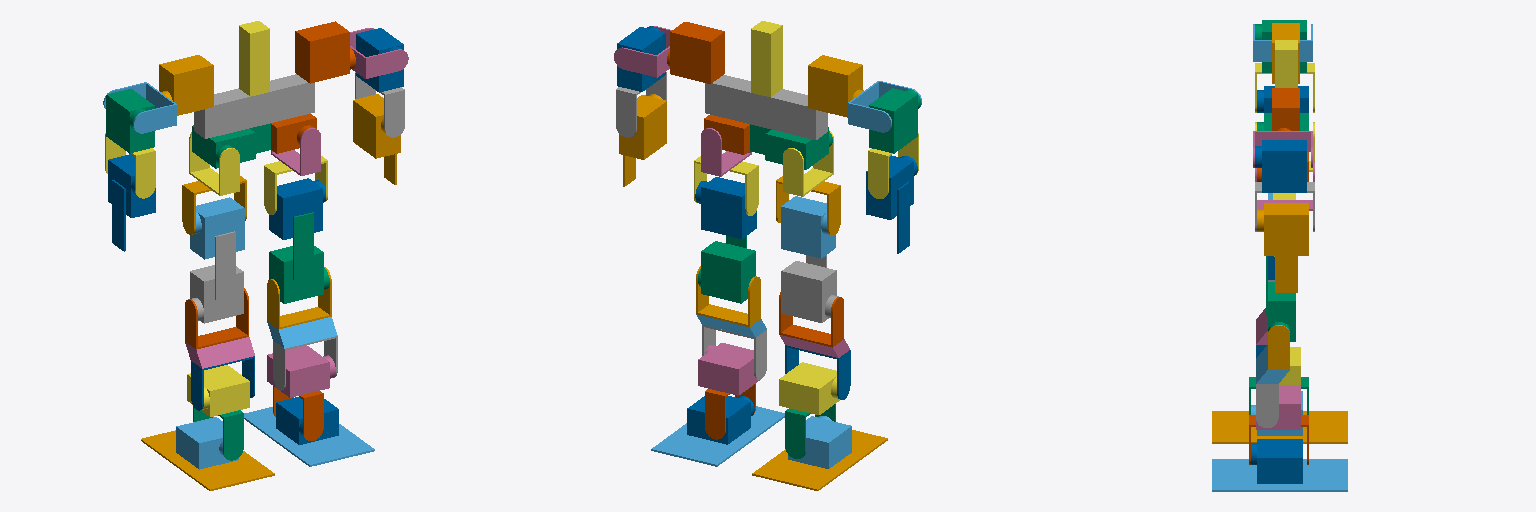
--- Facts derived from the render (not from the file) ---
The picture shows the robot from 3 angles, left to right: view 1: azimuth 30°, elevation 25°; view 2: azimuth 150°, elevation 25°; view 3: azimuth 270°, elevation 25°; orthographic projection.
Robot: humanoidV3 — 38 links, 37 joints (17 revolute, 20 fixed); root link base_link; default pose: all joints at 0.
Visible links, largest first — view 1: Comp3, servo5, servo6, servo15, servo16, ankel1, ankel2, servo12, servo11, servo8, servo7, servo3 (+24 smaller); view 2: Comp3, servo6, servo5, servo15, servo7, servo16, ankel1, servo8, ankel2, servo12, servo4, servo3 (+24 smaller); view 3: servo11, ankel2, ankel1, servo13, servo1, servo5, servo15, Comp4, servo3, csmall7, csmall8, csmall11 (+5 smaller).
Link boxes in pixels (x1,y1,x2,y2): Comp3: (194, 74, 314, 138); servo5: (269, 212, 329, 303); servo6: (190, 231, 243, 323); servo15: (295, 21, 355, 83); servo16: (159, 55, 213, 115); ankel1: (141, 430, 274, 490); ankel2: (244, 407, 374, 466); servo12: (108, 154, 155, 251); servo11: (353, 94, 400, 184); servo8: (190, 197, 244, 259); servo7: (269, 178, 325, 239); servo3: (267, 345, 335, 397); Comp3: (705, 75, 827, 139); servo6: (781, 255, 838, 322); servo5: (698, 236, 755, 303); servo15: (667, 22, 724, 83); servo7: (695, 177, 756, 238); servo16: (808, 55, 863, 117); ankel1: (752, 430, 887, 490); servo8: (781, 196, 835, 258); ankel2: (651, 406, 784, 466); servo12: (866, 155, 917, 253); servo4: (779, 362, 839, 414); servo3: (698, 343, 759, 395); servo11: (1257, 203, 1308, 292); ankel2: (1212, 459, 1347, 491); ankel1: (1212, 411, 1347, 443); servo13: (1255, 140, 1306, 192); servo1: (1251, 439, 1302, 483); servo5: (1266, 256, 1295, 341); servo15: (1272, 88, 1299, 130); Comp4: (1275, 40, 1297, 87); servo3: (1256, 385, 1300, 429); csmall7: (1256, 384, 1278, 427); csmall8: (1268, 325, 1289, 369); csmall11: (1253, 24, 1312, 61).
Size in the robot's own frame: 0.274 by 0.12 by 0.3971 metres.
37 mesh visuals loaded from 38 distinct referenced files (37 binary STL); not drawn: 1 (reference not matched to a file when rendering).

The robot description file, URDF, robot "humanoidV3":
<?xml version='1.0' encoding='utf-8'?>
<robot name="humanoidV3">
    <link name="ankel1">
        <inertial>
            <origin xyz="-9.461717720427032e-10 4.96136727701213e-09 0.0008749975469610094" rpy="0.0 -0.0 0.0" />
            <mass value="0.022345050000000005" />
            <inertia ixx="2.6819762642970645e-05" iyy="7.873022330469055e-06" izz="3.468137968750205e-05" ixy="-4.531626267810507e-20" iyz="3.4304834363799164e-20" ixz="2.439454888092385e-19" />
        </inertial>
        <visual name="ankel1_visual">
            <origin xyz="-0.032500000946172905 -0.009999995038632992 0.001749997546961022" rpy="-3.14159265358979 5.377642775528136e-16 -1.249000902703285e-15" />
            <geometry>
                <mesh filename="meshes/ankel1.stl" scale="0.001 0.001 0.001" />
            </geometry>
        </visual>
        <collision name="ankel1_collision">
            <origin xyz="-0.032500000946172905 -0.009999995038632992 0.001749997546961022" rpy="-3.14159265358979 5.377642775528136e-16 -1.249000902703285e-15" />
            <geometry>
                <mesh filename="meshes/ankel1.stl" scale="0.001 0.001 0.001" />
            </geometry>
        </collision>
    </link>
    <link name="servo2">
        <inertial>
            <origin xyz="-0.009549969290340386 0.0023874896329909136 0.024964922230111902" rpy="0.0 -0.0 0.0" />
            <mass value="0.05780123871717229" />
            <inertia ixx="1.1637489216004143e-05" iyy="1.6355380589483745e-05" izz="1.062900549778705e-05" ixy="6.210436850530722e-08" iyz="-1.4284004757615333e-07" ixz="5.713601902397196e-07" />
        </inertial>
        <visual name="servo2_visual">
            <origin xyz="-0.05000000094617322 0.016749997546961028 0.03599999503863297" rpy="1.570796326794898 -1.2490009027032847e-15 -7.597004622606031e-16" />
            <geometry>
                <mesh filename="meshes/servo2.stl" scale="0.001 0.001 0.001" />
            </geometry>
        </visual>
        <collision name="servo2_collision">
            <origin xyz="-0.05000000094617322 0.016749997546961028 0.03599999503863297" rpy="1.570796326794898 -1.2490009027032847e-15 -7.597004622606031e-16" />
            <geometry>
                <mesh filename="meshes/servo2.stl" scale="0.001 0.001 0.001" />
            </geometry>
        </collision>
    </link>
    <link name="csmall1">
        <inertial>
            <origin xyz="-1.5367193295645622e-09 4.961356394606042e-09 0.01308869971781287" rpy="0.0 -0.0 0.0" />
            <mass value="0.007517560189288541" />
            <inertia ixx="4.996715608195708e-06" iyy="1.5854743173651417e-06" izz="3.897412167647621e-06" ixy="9.740878893424454e-21" iyz="1.718312212623755e-18" ixz="-2.3150765701175635e-14" />
        </inertial>
        <visual name="csmall1_visual">
            <origin xyz="-0.05000000169123135 -0.011249995575074842 0.04999999780028083" rpy="-3.14159265358979 7.597004622605937e-16 8.544811812600063e-16" />
            <geometry>
                <mesh filename="meshes/csmall1.stl" scale="0.001 0.001 0.001" />
            </geometry>
        </visual>
        <collision name="csmall1_collision">
            <origin xyz="-0.05000000169123135 -0.011249995575074842 0.04999999780028083" rpy="-3.14159265358979 7.597004622605937e-16 8.544811812600063e-16" />
            <geometry>
                <mesh filename="meshes/csmall1.stl" scale="0.001 0.001 0.001" />
            </geometry>
        </collision>
    </link>
    <link name="servo4">
        <inertial>
            <origin xyz="-0.0023874897820010156 -0.009549963382801056 0.024964925500249285" rpy="0.0 -0.0 0.0" />
            <mass value="0.05780123871717229" />
            <inertia ixx="1.6355380589484043e-05" iyy="1.1637489216002233e-05" izz="1.0629005497792444e-05" ixy="-6.210436850552067e-08" iyz="5.713601902393393e-07" ixz="1.4284004757442962e-07" />
        </inertial>
        <visual name="servo4_visual">
            <origin xyz="-0.06574999769597271 -0.021999995038633022 -0.020000001691231437" rpy="-3.1415926535897922 -1.5707963267948957 0" />
            <geometry>
                <mesh filename="meshes/servo4.stl" scale="0.001 0.001 0.001" />
            </geometry>
        </visual>
        <collision name="servo4_collision">
            <origin xyz="-0.06574999769597271 -0.021999995038633022 -0.020000001691231437" rpy="-3.1415926535897922 -1.5707963267948957 0" />
            <geometry>
                <mesh filename="meshes/servo4.stl" scale="0.001 0.001 0.001" />
            </geometry>
        </collision>
    </link>
    <link name="csmall2">
        <inertial>
            <origin xyz="-1.69123028470608e-09 4.370820039234502e-09 0.013088699866797686" rpy="0.0 -0.0 0.0" />
            <mass value="0.0075175601892790555" />
            <inertia ixx="1.585474317362072e-06" iyy="4.99671560818556e-06" izz="3.8974121676413834e-06" ixy="-6.098637220230962e-20" iyz="-2.3150744525351954e-14" ixz="3.3203691532368573e-19" />
        </inertial>
        <visual name="csmall2_visual">
            <origin xyz="-0.044500001691231326 -0.021749996320132883 0.09899999794929225" rpy="-3.14159265358979 5.381282163586294e-16 6.743723879120538e-16" />
            <geometry>
                <mesh filename="meshes/csmall2.stl" scale="0.001 0.001 0.001" />
            </geometry>
        </visual>
        <collision name="csmall2_collision">
            <origin xyz="-0.044500001691231326 -0.021749996320132883 0.09899999794929225" rpy="-3.14159265358979 5.381282163586294e-16 6.743723879120538e-16" />
            <geometry>
                <mesh filename="meshes/csmall2.stl" scale="0.001 0.001 0.001" />
            </geometry>
        </collision>
    </link>
    <link name="csmall3">
        <inertial>
            <origin xyz="-0.019911296948796123 -1.6029945593132311e-09 -0.024749998308769713" rpy="0.0 -0.0 0.0" />
            <mass value="0.007517560189279032" />
            <inertia ixx="3.897412167641505e-06" iyy="4.996715608185831e-06" izz="1.5854743173623431e-06" ixy="2.3151212087538838e-14" iyz="-1.1286714022163552e-19" ixz="5.827586677109586e-19" />
        </inertial>
        <visual name="csmall3_visual">
            <origin xyz="-0.14699999937294758 0.021749999087958348 0.01975000169123126" rpy="3.843315077959761e-16 1.570796326794896 0" />
            <geometry>
                <mesh filename="meshes/csmall3.stl" scale="0.001 0.001 0.001" />
            </geometry>
        </visual>
        <collision name="csmall3_collision">
            <origin xyz="-0.14699999937294758 0.021749999087958348 0.01975000169123126" rpy="3.843315077959761e-16 1.570796326794896 0" />
            <geometry>
                <mesh filename="meshes/csmall3.stl" scale="0.001 0.001 0.001" />
            </geometry>
        </collision>
    </link>
    <link name="Comp1">
        <inertial>
            <origin xyz="-1.6912302314153748e-09 0.005234147832396925 0.007101233407796812" rpy="0.0 -0.0 0.0" />
            <mass value="0.024635392744770463" />
            <inertia ixx="1.4596525160551189e-06" iyy="6.18083552493949e-06" izz="6.812286694457469e-06" ixy="-2.591920818598159e-19" iyz="-3.0522348765194117e-07" ixz="1.3552527156068805e-18" />
        </inertial>
        <visual name="Comp1_visual">
            <origin xyz="-0.04450000169123129 -0.011309445863593271 0.11331588646907101" rpy="-3.14159265358979 5.380875589313602e-16 6.743723879120537e-16" />
            <geometry>
                <mesh filename="meshes/Comp1.stl" scale="0.001 0.001 0.001" />
            </geometry>
        </visual>
        <collision name="Comp1_collision">
            <origin xyz="-0.04450000169123129 -0.011309445863593271 0.11331588646907101" rpy="-3.14159265358979 5.380875589313602e-16 6.743723879120537e-16" />
            <geometry>
                <mesh filename="meshes/Comp1.stl" scale="0.001 0.001 0.001" />
            </geometry>
        </collision>
    </link>
    <link name="servo6">
        <inertial>
            <origin xyz="-0.0015104733836477013 -0.05983643169479816 -0.011754290813264033" rpy="0.0 -0.0 0.0" />
            <mass value="0.060699238717172255" />
            <inertia ixx="1.4693730397509703e-05" iyy="1.2227175300403008e-05" izz="2.003750615806434e-05" ixy="-7.085129238241627e-07" iyz="-1.0846499523523942e-06" ixz="8.478544706999188e-08" />
        </inertial>
        <visual name="servo6_visual">
            <origin xyz="-0.04655113169123128 -0.21663231911962777 -0.0319999978064584" rpy="-1.5707963267948963 -4.526234928508708e-16 7.603220966537246e-16" />
            <geometry>
                <mesh filename="meshes/servo6.stl" scale="0.001 0.001 0.001" />
            </geometry>
        </visual>
        <collision name="servo6_collision">
            <origin xyz="-0.04655113169123128 -0.21663231911962777 -0.0319999978064584" rpy="-1.5707963267948963 -4.526234928508708e-16 7.603220966537246e-16" />
            <geometry>
                <mesh filename="meshes/servo6.stl" scale="0.001 0.001 0.001" />
            </geometry>
        </collision>
    </link>
    <link name="csmall4">
        <inertial>
            <origin xyz="1.567883245456869e-10 2.784089829788172e-09 0.013088703264342883" rpy="0.0 -0.0 0.0" />
            <mass value="0.007517560189288577" />
            <inertia ixx="1.5854743173693633e-06" iyy="4.996715608195264e-06" izz="3.897412167648366e-06" ixy="-3.6337713437209485e-19" iyz="2.3151907501588534e-14" ixz="3.5236570605778894e-18" />
        </inertial>
        <visual name="csmall4_visual">
            <origin xyz="-0.04449999984320096 -0.01674999908795832 0.2590000016448406" rpy="-3.141592653589791 1.1047905339958533e-15 1.693231541867879e-16" />
            <geometry>
                <mesh filename="meshes/csmall4.stl" scale="0.001 0.001 0.001" />
            </geometry>
        </visual>
        <collision name="csmall4_collision">
            <origin xyz="-0.04449999984320096 -0.01674999908795832 0.2590000016448406" rpy="-3.141592653589791 1.1047905339958533e-15 1.693231541867879e-16" />
            <geometry>
                <mesh filename="meshes/csmall4.stl" scale="0.001 0.001 0.001" />
            </geometry>
        </collision>
    </link>
    <link name="servo8">
        <inertial>
            <origin xyz="-0.009549969437659449 0.0023874942795725396 0.024964927348278692" rpy="-3.111507638930571e-61 -0.0 0.0" />
            <mass value="0.05780123871717224" />
            <inertia ixx="1.1637489216008413e-05" iyy="1.6355380589483555e-05" izz="1.062900549781429e-05" ixy="6.210436849868003e-08" iyz="-1.4284004757813285e-07" ixz="5.713601902277874e-07" />
        </inertial>
        <visual name="servo8_visual">
            <origin xyz="-0.22725000189816044 -0.01650000036945822 -0.019999999843201086" rpy="-3.141592653589793 -1.5707963267948957 0" />
            <geometry>
                <mesh filename="meshes/servo8.stl" scale="0.001 0.001 0.001" />
            </geometry>
        </visual>
        <collision name="servo8_collision">
            <origin xyz="-0.22725000189816044 -0.01650000036945822 -0.019999999843201086" rpy="-3.141592653589793 -1.5707963267948957 0" />
            <geometry>
                <mesh filename="meshes/servo8.stl" scale="0.001 0.001 0.001" />
            </geometry>
        </collision>
    </link>
    <link name="servo10">
        <inertial>
            <origin xyz="-0.00011250930548168726 -0.001035075747120674 0.02045003224409019" rpy="0.0 -0.0 0.0" />
            <mass value="0.05780123871717229" />
            <inertia ixx="1.6355380589490602e-05" iyy="1.0629005497799111e-05" izz="1.1637489216052323e-05" ixy="-1.42840047564726e-07" iyz="5.713601902358478e-07" ixz="6.210436852391484e-08" />
        </inertial>
        <visual name="servo10_visual">
            <origin xyz="-0.28925000139152124 0.009999997061400472 0.0800000005882596" rpy="5.396196667540477e-17 1.5707963267948961 0" />
            <geometry>
                <mesh filename="meshes/servo10.stl" scale="0.001 0.001 0.001" />
            </geometry>
        </visual>
        <collision name="servo10_collision">
            <origin xyz="-0.28925000139152124 0.009999997061400472 0.0800000005882596" rpy="5.396196667540477e-17 1.5707963267948961 0" />
            <geometry>
                <mesh filename="meshes/servo10.stl" scale="0.001 0.001 0.001" />
            </geometry>
        </collision>
    </link>
    <link name="csmall5">
        <inertial>
            <origin xyz="2.288826905783026e-12 -0.019911299220684738 -0.02474999706139995" rpy="0.0 -0.0 0.0" />
            <mass value="0.0075175601892790815" />
            <inertia ixx="4.996715608191794e-06" iyy="3.897412167641919e-06" izz="1.5854743173606897e-06" ixy="2.3148556639249196e-14" iyz="-1.2332799712022613e-18" ixz="-4.607859233063394e-19" />
        </inertial>
        <visual name="csmall5_visual">
            <origin xyz="-0.050000000588259444 -0.29600000164484075 -0.036999998342900284" rpy="-1.5707963267948966 -1.6932315418679007e-16 5.639287017770173e-16" />
            <geometry>
                <mesh filename="meshes/csmall5.stl" scale="0.001 0.001 0.001" />
            </geometry>
        </visual>
        <collision name="csmall5_collision">
            <origin xyz="-0.050000000588259444 -0.29600000164484075 -0.036999998342900284" rpy="-1.5707963267948966 -1.6932315418679007e-16 5.639287017770173e-16" />
            <geometry>
                <mesh filename="meshes/csmall5.stl" scale="0.001 0.001 0.001" />
            </geometry>
        </collision>
    </link>
    <link name="servo1">
        <inertial>
            <origin xyz="0.00954996842675211 0.002387489632990425 0.024964922230111944" rpy="0.0 -0.0 0.0" />
            <mass value="0.05780123871717229" />
            <inertia ixx="1.1637489216004808e-05" iyy="1.6355380589478784e-05" izz="1.0629005497783933e-05" ixy="-6.210436850055028e-08" iyz="-1.42840047578132e-07" ixz="-5.713601902387819e-07" />
        </inertial>
        <visual name="servo1_visual">
            <origin xyz="-0.12499999991742096 0.016749997546960584 0.03599999503863318" rpy="1.5707963267948977 7.494005416219953e-16 -5.186823193170617e-16" />
            <geometry>
                <mesh filename="meshes/servo1.stl" scale="0.001 0.001 0.001" />
            </geometry>
        </visual>
        <collision name="servo1_collision">
            <origin xyz="-0.12499999991742096 0.016749997546960584 0.03599999503863318" rpy="1.5707963267948977 7.494005416219953e-16 -5.186823193170617e-16" />
            <geometry>
                <mesh filename="meshes/servo1.stl" scale="0.001 0.001 0.001" />
            </geometry>
        </collision>
    </link>
    <link name="csmall6">
        <inertial>
            <origin xyz="6.73130955419765e-10 4.961367394695771e-09 0.013088699717787202" rpy="0.0 -0.0 0.0" />
            <mass value="0.007517560189279023" />
            <inertia ixx="4.9967156081858516e-06" iyy="1.5854743173605542e-06" izz="3.8974121676406414e-06" ixy="-1.0418505251227894e-19" iyz="2.6988587281890145e-19" ixz="2.315143655126986e-14" />
        </inertial>
        <visual name="csmall6_visual">
            <origin xyz="-0.12499999917236283 -0.01124999557507488 0.04999999780028033" rpy="-3.14159265358979 5.186823193170611e-16 6.881682058952412e-16" />
            <geometry>
                <mesh filename="meshes/csmall6.stl" scale="0.001 0.001 0.001" />
            </geometry>
        </visual>
        <collision name="csmall6_collision">
            <origin xyz="-0.12499999917236283 -0.01124999557507488 0.04999999780028033" rpy="-3.14159265358979 5.186823193170611e-16 6.881682058952412e-16" />
            <geometry>
                <mesh filename="meshes/csmall6.stl" scale="0.001 0.001 0.001" />
            </geometry>
        </collision>
    </link>
    <link name="servo3">
        <inertial>
            <origin xyz="-0.0023874897820005893 0.009549963382801044 0.024964926363837972" rpy="-3.111507638930571e-61 -0.0 0.0" />
            <mass value="0.05780123871717229" />
            <inertia ixx="1.6355380589482254e-05" iyy="1.163748921599898e-05" izz="1.0629005497793148e-05" ixy="6.210436850732739e-08" iyz="-5.713601902406183e-07" ixz="1.4284004758093483e-07" />
        </inertial>
        <visual name="servo3_visual">
            <origin xyz="-0.06574999769597219 0.021999995038633036 0.15499999917236268" rpy="9.748951538649027e-16 1.5707963267948957 0" />
            <geometry>
                <mesh filename="meshes/servo3.stl" scale="0.001 0.001 0.001" />
            </geometry>
        </visual>
        <collision name="servo3_collision">
            <origin xyz="-0.06574999769597219 0.021999995038633036 0.15499999917236268" rpy="9.748951538649027e-16 1.5707963267948957 0" />
            <geometry>
                <mesh filename="meshes/servo3.stl" scale="0.001 0.001 0.001" />
            </geometry>
        </collision>
    </link>
    <link name="csmall7">
        <inertial>
            <origin xyz="8.276412621910367e-10 4.370820017030042e-09 0.013088699866797367" rpy="0.0 -0.0 -1.9446922743316068e-62" />
            <mass value="0.007517560189279044" />
            <inertia ixx="1.5854743173623025e-06" iyy="4.9967156081853975e-06" izz="3.8974121676414e-06" ixy="-1.5924219408380846e-19" iyz="-2.315050227392904e-14" ixz="7.860465750519907e-19" />
        </inertial>
        <visual name="csmall7_visual">
            <origin xyz="-0.13049999917236282 -0.02174999632013294 0.09899999794929203" rpy="-3.14159265358979 5.184509151921889e-16 6.881681988163351e-16" />
            <geometry>
                <mesh filename="meshes/csmall7.stl" scale="0.001 0.001 0.001" />
            </geometry>
        </visual>
        <collision name="csmall7_collision">
            <origin xyz="-0.13049999917236282 -0.02174999632013294 0.09899999794929203" rpy="-3.14159265358979 5.184509151921889e-16 6.881681988163351e-16" />
            <geometry>
                <mesh filename="meshes/csmall7.stl" scale="0.001 0.001 0.001" />
            </geometry>
        </collision>
    </link>
    <link name="csmall8">
        <inertial>
            <origin xyz="-0.01991129694879586 1.6029945726359073e-09 -0.024749999172358966" rpy="0.0 -0.0 0.0" />
            <mass value="0.0075175601892790555" />
            <inertia ixx="3.897412167641455e-06" iyy="4.996715608185072e-06" izz="1.5854743173632105e-06" ixy="-2.3151452644895858e-14" iyz="-2.5622746654442585e-19" ixz="-1.0028870095490916e-18" />
        </inertial>
        <visual name="csmall8_visual">
            <origin xyz="-0.14699999937294742 -0.021749999087958348 -0.15524999917236293" rpy="-3.1415926535897927 -1.5707963267948957 0" />
            <geometry>
                <mesh filename="meshes/csmall8.stl" scale="0.001 0.001 0.001" />
            </geometry>
        </visual>
        <collision name="csmall8_collision">
            <origin xyz="-0.14699999937294742 -0.021749999087958348 -0.15524999917236293" rpy="-3.1415926535897927 -1.5707963267948957 0" />
            <geometry>
                <mesh filename="meshes/csmall8.stl" scale="0.001 0.001 0.001" />
            </geometry>
        </collision>
    </link>
    <link name="Comp2">
        <inertial>
            <origin xyz="8.276412266639e-10 0.00523414783239692 0.007101233407796617" rpy="0.0 -0.0 0.0" />
            <mass value="0.024635392744770463" />
            <inertia ixx="1.459652516055932e-06" iyy="6.180835524938677e-06" izz="6.812286694457374e-06" ixy="-6.335806445462167e-19" iyz="-3.052234876511585e-07" ixz="2.6020852139652106e-18" />
        </inertial>
        <visual name="Comp2_visual">
            <origin xyz="-0.13049999917236274 -0.011309445863593337 0.11331588646907091" rpy="-3.14159265358979 5.179233760628632e-16 6.881682916369652e-16" />
            <geometry>
                <mesh filename="meshes/Comp2.stl" scale="0.001 0.001 0.001" />
            </geometry>
        </visual>
        <collision name="Comp2_collision">
            <origin xyz="-0.13049999917236274 -0.011309445863593337 0.11331588646907091" rpy="-3.14159265358979 5.179233760628632e-16 6.881682916369652e-16" />
            <geometry>
                <mesh filename="meshes/Comp2.stl" scale="0.001 0.001 0.001" />
            </geometry>
        </collision>
    </link>
    <link name="servo5">
        <inertial>
            <origin xyz="0.0015104725200581549 -0.059836431694797944 -0.011754290813263993" rpy="0.0 -0.0 0.0" />
            <mass value="0.06069923871717226" />
            <inertia ixx="1.4693730397516208e-05" iyy="1.2227175300403821e-05" izz="2.0037506158063472e-05" ixy="7.085129238078997e-07" iyz="-1.0846499523542441e-06" ixz="-8.478544707324787e-08" />
        </inertial>
        <visual name="servo5_visual">
            <origin xyz="-0.12844886917236284 -0.21663231911962755 -0.031999997806458465" rpy="-1.5707963267948963 -9.102129856341965e-16 2.9566188310420746e-16" />
            <geometry>
                <mesh filename="meshes/servo5.stl" scale="0.001 0.001 0.001" />
            </geometry>
        </visual>
        <collision name="servo5_collision">
            <origin xyz="-0.12844886917236284 -0.21663231911962755 -0.031999997806458465" rpy="-1.5707963267948963 -9.102129856341965e-16 2.9566188310420746e-16" />
            <geometry>
                <mesh filename="meshes/servo5.stl" scale="0.001 0.001 0.001" />
            </geometry>
        </collision>
    </link>
    <link name="csmall9">
        <inertial>
            <origin xyz="-1.0203786793283598e-09 2.7840898431108486e-09 0.01308870326434267" rpy="0.0 -0.0 0.0" />
            <mass value="0.007517560189288569" />
            <inertia ixx="1.585474317370556e-06" iyy="4.996715608195264e-06" izz="3.897412167648773e-06" ixy="-4.573977915173222e-19" iyz="2.315214636487966e-14" ixz="4.87890977618477e-19" />
        </inertial>
        <visual name="csmall9_visual">
            <origin xyz="-0.13050000102039325 -0.01674999908795846 0.2590000016448404" rpy="-3.141592653589791 7.356311740267849e-17 1.1322598404707778e-15" />
            <geometry>
                <mesh filename="meshes/csmall9.stl" scale="0.001 0.001 0.001" />
            </geometry>
        </visual>
        <collision name="csmall9_collision">
            <origin xyz="-0.13050000102039325 -0.01674999908795846 0.2590000016448404" rpy="-3.141592653589791 7.356311740267849e-17 1.1322598404707778e-15" />
            <geometry>
                <mesh filename="meshes/csmall9.stl" scale="0.001 0.001 0.001" />
            </geometry>
        </collision>
    </link>
    <link name="servo7">
        <inertial>
            <origin xyz="-0.009549969437659235 -0.002387494279572555 0.0249649282118688" rpy="0.0 -0.0 0.0" />
            <mass value="0.05780123871717224" />
            <inertia ixx="1.1637489216009171e-05" iyy="1.635538058947835e-05" izz="1.0629005497829469e-05" ixy="-6.210436849687754e-08" iyz="1.4284004757289818e-07" ixz="5.713601902545672e-07" />
        </inertial>
        <visual name="servo7_visual">
            <origin xyz="-0.22725000189816016 0.01650000036945829 0.15500000102039324" rpy="2.913555616707348e-16 1.5707963267948957 0" />
            <geometry>
                <mesh filename="meshes/servo7.stl" scale="0.001 0.001 0.001" />
            </geometry>
        </visual>
        <collision name="servo7_collision">
            <origin xyz="-0.22725000189816016 0.01650000036945829 0.15500000102039324" rpy="2.913555616707348e-16 1.5707963267948957 0" />
            <geometry>
                <mesh filename="meshes/servo7.stl" scale="0.001 0.001 0.001" />
            </geometry>
        </collision>
    </link>
    <link name="servo9">
        <inertial>
            <origin xyz="-0.00011250930548154515 0.0010350757471206773 0.020450031380499303" rpy="0.0 -0.0 0.0" />
            <mass value="0.05780123871717229" />
            <inertia ixx="1.6355380589493638e-05" iyy="1.0629005497805183e-05" izz="1.1637489216057527e-05" ixy="1.4284004756350628e-07" iyz="-5.713601902438675e-07" ixz="6.210436848293199e-08" />
        </inertial>
        <visual name="servo9_visual">
            <origin xyz="-0.2892500013915211 -0.009999997061400477 -0.09500000027533506" rpy="-3.141592653589793 -1.5707963267948961 0" />
            <geometry>
                <mesh filename="meshes/servo9.stl" scale="0.001 0.001 0.001" />
            </geometry>
        </visual>
        <collision name="servo9_collision">
            <origin xyz="-0.2892500013915211 -0.009999997061400477 -0.09500000027533506" rpy="-3.141592653589793 -1.5707963267948961 0" />
            <geometry>
                <mesh filename="meshes/servo9.stl" scale="0.001 0.001 0.001" />
            </geometry>
        </collision>
    </link>
    <link name="csmall10">
        <inertial>
            <origin xyz="-8.658793859694924e-10 -0.019911299220659196 -0.024749997061411014" rpy="0.0 -0.0 0.0" />
            <mass value="0.0075175601892885895" />
            <inertia ixx="4.996715608200468e-06" iyy="3.897412167649098e-06" izz="1.585474317365677e-06" ixy="-2.3153625284405566e-14" iyz="1.7957098481791167e-19" ixz="-5.437951521372608e-19" />
        </inertial>
        <visual name="csmall10_visual">
            <origin xyz="-0.12500000027533475 -0.2960000016448406 -0.03699999834290043" rpy="-1.5707963267948966 -1.1322598404707766e-15 3.1918911957972876e-16" />
            <geometry>
                <mesh filename="meshes/csmall10.stl" scale="0.001 0.001 0.001" />
            </geometry>
        </visual>
        <collision name="csmall10_collision">
            <origin xyz="-0.12500000027533475 -0.2960000016448406 -0.03699999834290043" rpy="-1.5707963267948966 -1.1322598404707766e-15 3.1918911957972876e-16" />
            <geometry>
                <mesh filename="meshes/csmall10.stl" scale="0.001 0.001 0.001" />
            </geometry>
        </collision>
    </link>
    <link name="Comp3">
        <inertial>
            <origin xyz="-4.3179550601735174e-10 -2.9385998701059182e-09 0.015000001062798916" rpy="0.0 -0.0 0.0" />
            <mass value="0.108042" />
            <inertia ixx="1.1704550000100553e-05" iyy="0.00011704550000007224" izz="0.00011254375000002573" ixy="8.863352760068999e-18" iyz="2.6020852139652106e-17" ixz="-4.466912950640278e-17" />
        </inertial>
        <visual name="Comp3_visual">
            <origin xyz="-0.08790239353209325 0.0099999970614005 -0.30209760583691514" rpy="2.2608736511185493e-15 -4.419119116591466e-16 -1.4131517269391634e-16" />
            <geometry>
                <mesh filename="meshes/Comp3.stl" scale="0.001 0.001 0.001" />
            </geometry>
        </visual>
        <collision name="Comp3_collision">
            <origin xyz="-0.08790239353209325 0.0099999970614005 -0.30209760583691514" rpy="2.2608736511185493e-15 -4.419119116591466e-16 -1.4131517269391634e-16" />
            <geometry>
                <mesh filename="meshes/Comp3.stl" scale="0.001 0.001 0.001" />
            </geometry>
        </collision>
    </link>
    <link name="servo16">
        <inertial>
            <origin xyz="0.00011251085256934968 -0.01403507324031894 0.01954996940696873" rpy="0.0 -0.0 0.0" />
            <mass value="0.05780123871717229" />
            <inertia ixx="1.6355380589510443e-05" iyy="1.0629005497862429e-05" izz="1.163748921600821e-05" ixy="1.428400475704672e-07" iyz="-5.713601902667103e-07" ixz="6.2104368488868e-08" />
        </inertial>
        <visual name="servo16_visual">
            <origin xyz="-0.02349999706140114 -0.032000000431797425 -0.33274999893721086" rpy="2.137274603454801e-15 -2.1928454806640475e-16 1.5707963267948963" />
            <geometry>
                <mesh filename="meshes/servo16.stl" scale="0.001 0.001 0.001" />
            </geometry>
        </visual>
        <collision name="servo16_collision">
            <origin xyz="-0.02349999706140114 -0.032000000431797425 -0.33274999893721086" rpy="2.137274603454801e-15 -2.1928454806640475e-16 1.5707963267948963" />
            <geometry>
                <mesh filename="meshes/servo16.stl" scale="0.001 0.001 0.001" />
            </geometry>
        </collision>
    </link>
    <link name="csmall11">
        <inertial>
            <origin xyz="9.082894081302585e-10 -2.9385999633646523e-09 0.013088702453615587" rpy="0.0 -0.0 0.0" />
            <mass value="0.007517560189279109" />
            <inertia ixx="4.996715608185179e-06" iyy="1.5854743173598224e-06" izz="3.897412167649071e-06" ixy="1.968504569418994e-18" iyz="-6.686266327388633e-19" ixz="2.3154252088786534e-14" />
        </inertial>
        <visual name="csmall11_visual">
            <origin xyz="-0.3430000000846009 0.012249998342900302 -0.00799999956820247" rpy="-6.963708098753698e-17 1.5707963267948961 0" />
            <geometry>
                <mesh filename="meshes/csmall11.stl" scale="0.001 0.001 0.001" />
            </geometry>
        </visual>
        <collision name="csmall11_collision">
            <origin xyz="-0.3430000000846009 0.012249998342900302 -0.00799999956820247" rpy="-6.963708098753698e-17 1.5707963267948961 0" />
            <geometry>
                <mesh filename="meshes/csmall11.stl" scale="0.001 0.001 0.001" />
            </geometry>
        </collision>
    </link>
    <link name="servo14">
        <inertial>
            <origin xyz="0.002387491803241728 0.009549968026426683 0.024964924252879408" rpy="0.0 -0.0 0.0" />
            <mass value="0.05780123871717229" />
            <inertia ixx="1.6355380589513913e-05" iyy="1.1637489215998363e-05" izz="1.0629005497807785e-05" ixy="-6.210436848011307e-08" iyz="-5.71360190253727e-07" ixz="-1.4284004757099405e-07" />
        </inertial>
        <visual name="servo14_visual">
            <origin xyz="0.04099999971721355 0.3427499996822689 0.035999997061400786" rpy="1.5707963267948968 4.24593642260526e-16 -9.68370416948488e-17" />
            <geometry>
                <mesh filename="meshes/servo14.stl" scale="0.001 0.001 0.001" />
            </geometry>
        </visual>
        <collision name="servo14_collision">
            <origin xyz="0.04099999971721355 0.3427499996822689 0.035999997061400786" rpy="1.5707963267948968 4.24593642260526e-16 -9.68370416948488e-17" />
            <geometry>
                <mesh filename="meshes/servo14.stl" scale="0.001 0.001 0.001" />
            </geometry>
        </collision>
    </link>
    <link name="csmall12">
        <inertial>
            <origin xyz="-1.282780992539756e-10 2.9385889366295717e-09 0.013088701704100458" rpy="0.0 -0.0 0.0" />
            <mass value="0.007517560189288622" />
            <inertia ixx="4.996715608197974e-06" iyy="1.5854743173658939e-06" izz="3.8974121676471035e-06" ixy="-5.116079001415974e-19" iyz="3.1001405869507392e-18" ixz="-2.3148326246287543e-14" />
        </inertial>
        <visual name="csmall12_visual">
            <origin xyz="0.038000000313260104 -0.012249998342900359 0.3119999999355884" rpy="-3.141592653589791 -1.9065229335036574e-16 4.245935893209665e-16" />
            <geometry>
                <mesh filename="meshes/csmall12.stl" scale="0.001 0.001 0.001" />
            </geometry>
        </visual>
        <collision name="csmall12_collision">
            <origin xyz="0.038000000313260104 -0.012249998342900359 0.3119999999355884" rpy="-3.141592653589791 -1.9065229335036574e-16 4.245935893209665e-16" />
            <geometry>
                <mesh filename="meshes/csmall12.stl" scale="0.001 0.001 0.001" />
            </geometry>
        </collision>
    </link>
    <link name="servo12">
        <inertial>
            <origin xyz="0.0017542934690760426 0.010777957773832121 0.02501553111428815" rpy="0.0 -0.0 0.0" />
            <mass value="0.06069923871717238" />
            <inertia ixx="1.91501062452408e-05" iyy="1.2223332488588319e-05" izz="1.3810173296464369e-05" ixy="8.792585286684332e-07" iyz="-6.465962782899886e-07" ixz="-1.0404541106063979e-07" />
        </inertial>
        <visual name="servo12_visual">
            <origin xyz="0.038000000462271574 0.27874999953325746 0.035999997061400786" rpy="1.5707963267948968 4.245937481396478e-16 1.90665422361047e-16" />
            <geometry>
                <mesh filename="meshes/servo12.stl" scale="0.001 0.001 0.001" />
            </geometry>
        </visual>
        <collision name="servo12_collision">
            <origin xyz="0.038000000462271574 0.27874999953325746 0.035999997061400786" rpy="1.5707963267948968 4.245937481396478e-16 1.90665422361047e-16" />
            <geometry>
                <mesh filename="meshes/servo12.stl" scale="0.001 0.001 0.001" />
            </geometry>
        </collision>
    </link>
    <link name="servo15">
        <inertial>
            <origin xyz="0.00011251085256940297 0.014035072376727574 0.019549969406968657" rpy="0.0 -0.0 0.0" />
            <mass value="0.05780123871717229" />
            <inertia ixx="1.635538058953473e-05" iyy="1.0629005497871102e-05" izz="1.1637489216018496e-05" ixy="-1.4284004758230364e-07" iyz="5.713601902083802e-07" ixz="6.210436848591355e-08" />
        </inertial>
        <visual name="servo15_visual">
            <origin xyz="-0.023499997061401122 -0.14300000043179723 -0.332749998937211" rpy="2.1368409225862123e-15 -6.635634932966433e-16 1.5707963267948963" />
            <geometry>
                <mesh filename="meshes/servo15.stl" scale="0.001 0.001 0.001" />
            </geometry>
        </visual>
        <collision name="servo15_collision">
            <origin xyz="-0.023499997061401122 -0.14300000043179723 -0.332749998937211" rpy="2.1368409225862123e-15 -6.635634932966433e-16 1.5707963267948963" />
            <geometry>
                <mesh filename="meshes/servo15.stl" scale="0.001 0.001 0.001" />
            </geometry>
        </collision>
    </link>
    <link name="csmall14">
        <inertial>
            <origin xyz="9.082894081302585e-10 2.9386000321984795e-09 0.013088701590024527" rpy="0.0 -0.0 0.0" />
            <mass value="0.007517560189279109" />
            <inertia ixx="4.9967156081874575e-06" iyy="1.585474317365677e-06" izz="3.897412167651673e-06" ixy="-2.625802136488331e-18" iyz="-8.859964628279982e-19" ixz="2.314630691974129e-14" />
        </inertial>
        <visual name="csmall14_visual">
            <origin xyz="-0.3430000000846005 -0.012249998342900255 -0.18300000043179676" rpy="3.141592653589793 -1.570796326794896 0" />
            <geometry>
                <mesh filename="meshes/csmall14.stl" scale="0.001 0.001 0.001" />
            </geometry>
        </visual>
        <collision name="csmall14_collision">
            <origin xyz="-0.3430000000846005 -0.012249998342900255 -0.18300000043179676" rpy="3.141592653589793 -1.570796326794896 0" />
            <geometry>
                <mesh filename="meshes/csmall14.stl" scale="0.001 0.001 0.001" />
            </geometry>
        </collision>
    </link>
    <link name="csmall15">
        <inertial>
            <origin xyz="-7.353127173814755e-10 2.938599914514839e-09 0.013088701704075306" rpy="0.0 -0.0 0.0" />
            <mass value="0.007517560189279135" />
            <inertia ixx="4.996715608192228e-06" iyy="1.5854743173682791e-06" izz="3.89741216764365e-06" ixy="-7.707999820014133e-19" iyz="2.2632720350634905e-18" ixz="2.3154872116903924e-14" />
        </inertial>
        <visual name="csmall15_visual">
            <origin xyz="-0.2130000011768542 -0.012249998342900272 0.31199999993558847" rpy="-3.141592653589791 9.879843118750987e-16 -1.9496732259834e-17" />
            <geometry>
                <mesh filename="meshes/csmall15.stl" scale="0.001 0.001 0.001" />
            </geometry>
        </visual>
        <collision name="csmall15_collision">
            <origin xyz="-0.2130000011768542 -0.012249998342900272 0.31199999993558847" rpy="-3.141592653589791 9.879843118750987e-16 -1.9496732259834e-17" />
            <geometry>
                <mesh filename="meshes/csmall15.stl" scale="0.001 0.001 0.001" />
            </geometry>
        </collision>
    </link>
    <link name="servo11">
        <inertial>
            <origin xyz="-0.0017542943326666106 0.010777957773831694 0.02501553111428803" rpy="0.0 -0.0 0.0" />
            <mass value="0.0606992387171724" />
            <inertia ixx="1.9150106245258147e-05" iyy="1.2223332488606967e-05" izz="1.3810173296489522e-05" ixy="-8.792585286269625e-07" iyz="-6.465962782958162e-07" ixz="1.0404541106940658e-07" />
        </inertial>
        <visual name="servo11_visual">
            <origin xyz="-0.2130000013258658 0.2787499995332573 0.035999997061400675" rpy="1.5707963267948968 -1.9495249952176156e-17 -9.879567833043127e-16" />
            <geometry>
                <mesh filename="meshes/servo11.stl" scale="0.001 0.001 0.001" />
            </geometry>
        </visual>
        <collision name="servo11_collision">
            <origin xyz="-0.2130000013258658 0.2787499995332573 0.035999997061400675" rpy="1.5707963267948968 -1.9495249952176156e-17 -9.879567833043127e-16" />
            <geometry>
                <mesh filename="meshes/servo11.stl" scale="0.001 0.001 0.001" />
            </geometry>
        </collision>
    </link>
    <link name="ankel2">
        <inertial>
            <origin xyz="8.258373540570574e-11 4.961367250366777e-09 0.000874997546960512" rpy="0.0 -0.0 0.0" />
            <mass value="0.022345050000000005" />
            <inertia ixx="2.681976264297071e-05" iyy="7.873022330465314e-06" izz="3.4681379687499054e-05" ixy="-3.5405977195229754e-19" iyz="9.438064614781042e-19" ixz="1.938011383317839e-18" />
        </inertial>
        <visual name="ankel2_visual">
            <origin xyz="-0.1424999999174212 -0.009999995038633162 0.0017499975469605867" rpy="-3.14159265358979 5.377642775528058e-16 7.494005416219955e-16" />
            <geometry>
                <mesh filename="meshes/ankel2.stl" scale="0.001 0.001 0.001" />
            </geometry>
        </visual>
        <collision name="ankel2_collision">
            <origin xyz="-0.1424999999174212 -0.009999995038633162 0.0017499975469605867" rpy="-3.14159265358979 5.377642775528058e-16 7.494005416219955e-16" />
            <geometry>
                <mesh filename="meshes/ankel2.stl" scale="0.001 0.001 0.001" />
            </geometry>
        </collision>
    </link>
    <link name="base_link">
        <inertial>
            <origin xyz="0.0875000013038565 -0.000999999999999378 0.2943680743872461" rpy="0.0 0.0 0.0" />
            <mass value="0.01755626878248209" />
            <inertia ixx="1.5391454563775725e-06" iyy="1.599129393932213e-06" izz="1.2304018564033063e-06" ixy="1.2869836935983475e-18" iyz="3.465224774883378e-18" ixz="-6.403037897861071e-18" />
        </inertial>
        <visual name="base_link_visual">
            <origin xyz="0.0 0.0 0.0" rpy="0.0 0.0 0.0" />
            <geometry>
                <mesh filename="meshes/base_link.stl" scale="0.001 0.001 0.001" />
            </geometry>
        </visual>
        <collision name="base_link_collision">
            <origin xyz="0.0 0.0 0.0" rpy="0.0 0.0 0.0" />
            <geometry>
                <mesh filename="meshes/base_link.stl" scale="0.001 0.001 0.001" />
            </geometry>
        </collision>
    </link>
    <link name="Comp4">
        <inertial>
            <origin xyz="-4.317956836530357e-10 -2.9385998767672562e-09 0.03000000106279927" rpy="0.0 -0.0 0.0" />
            <mass value="0.039288000000000003" />
            <inertia ixx="1.3095999999998033e-05" iyy="1.30959999999989e-05" izz="2.6191999999999427e-06" ixy="-6.7762635780344005e-21" iyz="-2.710505431213761e-20" ixz="4.336808689942018e-19" />
        </inertial>
        <visual name="Comp4_visual">
            <origin xyz="-0.09858072699107068 -0.00871680000000031 -0.35762685" rpy="5.3961966675403674e-17 -7.888609052210118e-31 -1.4131517269391634e-16" />
            <geometry>
                <mesh filename="meshes/Comp4.stl" scale="0.001 0.001 0.001" />
            </geometry>
        </visual>
        <collision name="Comp4_collision">
            <origin xyz="-0.09858072699107068 -0.00871680000000031 -0.35762685" rpy="5.3961966675403674e-17 -7.888609052210118e-31 -1.4131517269391634e-16" />
            <geometry>
                <mesh filename="meshes/Comp4.stl" scale="0.001 0.001 0.001" />
            </geometry>
        </collision>
    </link>
    <link name="servo13">
        <inertial>
            <origin xyz="-0.0023874926668327134 0.009549968026426398 0.024964924252879314" rpy="0.0 -0.0 0.0" />
            <mass value="0.05780123871717229" />
            <inertia ixx="1.6355380589545138e-05" iyy="1.1637489216021531e-05" izz="1.0629005497839877e-05" ixy="6.210436853757578e-08" iyz="-5.713601902594732e-07" ixz="1.4284004758261535e-07" />
        </inertial>
        <visual name="servo13_visual">
            <origin xyz="-0.21600000058080773 0.3427499996822688 0.0359999970614007" rpy="1.5707963267948968 -1.9496573441153905e-17 -7.860109996682104e-16" />
            <geometry>
                <mesh filename="meshes/servo13.stl" scale="0.001 0.001 0.001" />
            </geometry>
        </visual>
        <collision name="servo13_collision">
            <origin xyz="-0.21600000058080773 0.3427499996822688 0.0359999970614007" rpy="1.5707963267948968 -1.9496573441153905e-17 -7.860109996682104e-16" />
            <geometry>
                <mesh filename="meshes/servo13.stl" scale="0.001 0.001 0.001" />
            </geometry>
        </collision>
    </link>
    <link name="servo17">
        <inertial>
            <origin xyz="0.0023874916542346017 -0.009549971282768816 0.024964928254279074" rpy="0.0 -0.0 0.0" />
            <mass value="0.05780123871717229" />
            <inertia ixx="1.635538058950871e-05" iyy="1.163748921602717e-05" izz="1.062900549783966e-05" ixy="6.210436848575177e-08" iyz="5.713601902075772e-07" ixz="-1.4284004758299482e-07" />
        </inertial>
        <visual name="servo17_visual">
            <origin xyz="0.025999999568204347 0.3427499970614109 0.18200000106280378" rpy="1.5707963267948968 1.5707963267948966 0" />
            <geometry>
                <mesh filename="meshes/servo17.stl" scale="0.001 0.001 0.001" />
            </geometry>
        </visual>
        <collision name="servo17_collision">
            <origin xyz="0.025999999568204347 0.3427499970614109 0.18200000106280378" rpy="1.5707963267948968 1.5707963267948966 0" />
            <geometry>
                <mesh filename="meshes/servo17.stl" scale="0.001 0.001 0.001" />
            </geometry>
        </collision>
    </link>
    <joint name="servo2_Rigid-85" type="fixed">
        <origin xyz="-0.01 0.015 0.025999999999999995" rpy="-1.5707963267948966 1.2948285703496187e-32 5.107198190560144e-63" />
        <parent link="servo2" />
        <child link="ankel1" />
    </joint>
    <joint name="servo1_Rigid-86" type="fixed">
        <origin xyz="0.01 0.015 0.025999999999999995" rpy="-1.5707963267948966 -1.0586267447530742e-31 0.0" />
        <parent link="servo1" />
        <child link="ankel2" />
    </joint>
    <joint name="servo2_val" type="revolute">
        <origin xyz="0.0 0.024749999999999998 0.033" rpy="1.5707963267948966 3.212494263887367e-62 8.14464056369313e-32" />
        <parent link="csmall1" />
        <child link="servo2" />
        <axis xyz="4.477502886857366e-32 0.0 1.0" />
        <limit lower="-0.872665" upper="0.872665" effort="1000000" velocity="1000000" />
    </joint>
    <joint name="servo1_val" type="revolute">
        <origin xyz="0.0 0.024749999999999998 0.033" rpy="1.5707963267948966 -0.0 9.855476398043882e-32" />
        <parent link="csmall6" />
        <child link="servo1" />
        <axis xyz="-8.598479941814529e-32 0.0 1.0" />
        <limit lower="-0.872665" upper="0.872665" effort="1000000" velocity="1000000" />
    </joint>
    <joint name="servo3_Rigid-89" type="fixed">
        <origin xyz="-0.01500000000000001 0.01 0.026000000000000016" rpy="3.141592653589793 1.5707963267948966 0" />
        <parent link="servo3" />
        <child link="csmall6" />
    </joint>
    <joint name="servo4_Rigid-90" type="fixed">
        <origin xyz="-0.01500000000000001 -0.01 0.025999999999999995" rpy="-2.1829489392438793e-62 -1.5707963267948966 0" />
        <parent link="servo4" />
        <child link="csmall1" />
    </joint>
    <joint name="servo4_val" type="revolute">
        <origin xyz="-0.024749999999999998 0.0 0.03299999999999999" rpy="9.768100894714295e-35 1.5707963267948966 0" />
        <parent link="csmall2" />
        <child link="servo4" />
        <axis xyz="0.0 6.604445422733482e-32 1.0" />
        <limit lower="-1.570796" upper="1.570796" effort="1000000" velocity="1000000" />
    </joint>
    <joint name="Comp1_Rigid-92" type="fixed">
        <origin xyz="0.0 0.01046829 0.014202469999999998" rpy="0.0 -0.0 -1.6358743464059394e-31" />
        <parent link="Comp1" />
        <child link="csmall2" />
    </joint>
    <joint name="csmall3_Rigid-93" type="fixed">
        <origin xyz="-0.03300000000000001 0.0 -0.024749999999999998" rpy="3.141592653589793 1.5707963267948966 0" />
        <parent link="csmall3" />
        <child link="Comp1" />
    </joint>
    <joint name="servo6_val" type="revolute">
        <origin xyz="-0.026551130000000003 -0.07088232000000001 -0.01" rpy="-1.5707963267948966 -9.251285407522655e-62 1.5707963267948966" />
        <parent link="servo6" />
        <child link="csmall3" />
        <axis xyz="-7.888609052210118e-31 -2.7629785492235695e-32 1.0" />
        <limit lower="-1.570796" upper="1.570796" effort="1000000" velocity="1000000" />
    </joint>
    <joint name="servo8_Rigid-95" type="fixed">
        <origin xyz="-0.01 0.015 0.026000000000000002" rpy="-1.5707963267948966 -1.5707963267948966 0" />
        <parent link="servo8" />
        <child link="servo6" />
    </joint>
    <joint name="servo8_val" type="revolute">
        <origin xyz="-0.02475 0.0 0.032999999999999974" rpy="2.5439795470746586e-32 1.5707963267948966 0" />
        <parent link="csmall4" />
        <child link="servo8" />
        <axis xyz="7.888609052210118e-31 2.1008194424582792e-32 1.0" />
        <limit lower="-1.570796" upper="1.570796" effort="1000000" velocity="1000000" />
    </joint>
    <joint name="csmall5_Rigid-97" type="fixed">
        <origin xyz="0.0 -0.03300000000000001 -0.02475" rpy="1.5707963267948966 -3.654358718453336e-32 -9.860761315262648e-32" />
        <parent link="csmall5" />
        <child link="csmall4" />
    </joint>
    <joint name="servo10_val" type="revolute">
        <origin xyz="-0.0025 -0.026000000000000002 0.03" rpy="1.5707963267948966 1.5707963267948966 0" />
        <parent link="servo10" />
        <child link="csmall5" />
        <axis xyz="-4.366914736371481e-33 0.0 1.0" />
        <limit lower="-1.570796" upper="0.523599" effort="1000000" velocity="1000000" />
    </joint>
    <joint name="base_link_Rigid-99" type="fixed">
        <origin xyz="0.07700000173564747 -0.0009999970614001019 0.29436807577873964" rpy="1.4131517269391505e-16 -1.5707963267948921 0" />
        <parent link="base_link" />
        <child link="servo10" />
    </joint>
    <joint name="servo3_val" type="revolute">
        <origin xyz="0.024750000000000015 0.0 0.03299999999999999" rpy="3.141592653589793 1.5707963267948966 0" />
        <parent link="csmall7" />
        <child link="servo3" />
        <axis xyz="7.888609052210118e-31 -7.532811369950029e-32 1.0" />
        <limit lower="-1.570796" upper="1.570796" effort="1000000" velocity="1000000" />
    </joint>
    <joint name="Comp2_Rigid-101" type="fixed">
        <origin xyz="0.0 0.01046829 0.014202469999999998" rpy="3.944304526105059e-31 -9.860761315262648e-32 -1.5531252759231369e-31" />
        <parent link="Comp2" />
        <child link="csmall7" />
    </joint>
    <joint name="csmall8_Rigid-102" type="fixed">
        <origin xyz="-0.03300000000000001 0.0 -0.024750000000000015" rpy="-4.930380657631324e-32 -1.5707963267948966 0" />
        <parent link="csmall8" />
        <child link="Comp2" />
    </joint>
    <joint name="servo5_val" type="revolute">
        <origin xyz="0.02655113000000002 -0.07088232000000001 -0.01" rpy="1.5707963267948966 -4.930380657631324e-32 1.5707963267948966" />
        <parent link="servo5" />
        <child link="csmall8" />
        <axis xyz="0.0 -2.880058662007473e-31 1.0" />
        <limit lower="-1.570796" upper="1.570796" effort="1000000" velocity="1000000" />
    </joint>
    <joint name="servo7_Rigid-104" type="fixed">
        <origin xyz="-0.01 -0.015 0.025999999999999995" rpy="1.5707963267948966 1.5707963267948966 0" />
        <parent link="servo7" />
        <child link="servo5" />
    </joint>
    <joint name="servo7_val" type="revolute">
        <origin xyz="0.024749999999999998 0.0 0.032999999999999974" rpy="3.141592653589793 1.5707963267948966 0" />
        <parent link="csmall9" />
        <child link="servo7" />
        <axis xyz="0.0 -1.257935617384854e-31 1.0" />
        <limit lower="-1.570796" upper="1.570796" effort="1000000" velocity="1000000" />
    </joint>
    <joint name="csmall10_Rigid-106" type="fixed">
        <origin xyz="0.0 -0.03300000000000001 -0.02475" rpy="1.5707963267948966 4.954121711661801e-32 0.0" />
        <parent link="csmall10" />
        <child link="csmall9" />
    </joint>
    <joint name="servo9_val" type="revolute">
        <origin xyz="-0.0025 0.026000000000000002 0.03" rpy="-1.5707963267948966 -1.5707963267948966 0" />
        <parent link="servo9" />
        <child link="csmall10" />
        <axis xyz="-4.3669147363716016e-33 -0.0 1.0" />
        <limit lower="-0.523599" upper="1.570796" effort="1000000" velocity="1000000" />
    </joint>
    <joint name="base_link_Rigid-108" type="fixed">
        <origin xyz="0.09800000173564674 -0.0009999970614000986 0.29436807577873964" rpy="-3.141592653589793 -1.5707963267948921 0" />
        <parent link="base_link" />
        <child link="servo9" />
    </joint>
    <joint name="base_link_Rigid-109" type="fixed">
        <origin xyz="0.08750000173564716 -0.0009999970614000986 0.30713552577873926" rpy="-2.1459482208350834e-15 5.377642775528099e-16 1.4131517269391567e-16" />
        <parent link="base_link" />
        <child link="Comp3" />
    </joint>
    <joint name="servo11_val" type="revolute">
        <origin xyz="0.0 0.02475 0.032999999999999974" rpy="1.5707963267948966 1.0385750690881077e-63 -2.633100619423229e-33" />
        <parent link="csmall15" />
        <child link="servo11" />
        <axis xyz="-1.5066970818309316e-34 0.0 1.0" />
        <limit lower="-1.570796" upper="1.570796" effort="1000000" velocity="1000000" />
    </joint>
    <joint name="servo15_val" type="revolute">
        <origin xyz="0.0025 0.03900000000000001 0.01" rpy="-1.5707963267948966 -1.5707963267948966 0" />
        <parent link="servo15" />
        <child link="csmall14" />
        <axis xyz="0.0 4.608267028078227e-32 1.0" />
        <limit lower="-2.792527" upper="0.349066" effort="1000000" velocity="1000000" />
    </joint>
    <joint name="Comp3_Rigid-114" type="fixed">
        <origin xyz="0.055 0.0 0.03" rpy="0.0 3.944304526105059e-31 -1.5707963267948966" />
        <parent link="Comp3" />
        <child link="servo15" />
    </joint>
    <joint name="servo12_val" type="revolute">
        <origin xyz="0.0 0.02475 0.032999999999999974" rpy="1.5707963267948966 -1.232595164407831e-32 5.136873837722173e-32" />
        <parent link="csmall12" />
        <child link="servo12" />
        <axis xyz="-3.6358066392837417e-32 0.0 1.0" />
        <limit lower="-1.570796" upper="1.570796" effort="1000000" velocity="1000000" />
    </joint>
    <joint name="servo14_Rigid-116" type="fixed">
        <origin xyz="0.0025 0.03 0.026000000000000002" rpy="-1.5707963267948966 -2.175320663350183e-32 -1.232595164407831e-32" />
        <parent link="servo14" />
        <child link="csmall12" />
    </joint>
    <joint name="servo14_val" type="revolute">
        <origin xyz="0.0 -0.02475 0.033" rpy="-1.5707963267948966 1.5707963267948966 0" />
        <parent link="csmall11" />
        <child link="servo14" />
        <axis xyz="-6.742534649117511e-33 -1.232595164407831e-32 1.0" />
        <limit lower="-0.349066" upper="2.792527" effort="1000000" velocity="1000000" />
    </joint>
    <joint name="servo16_val" type="revolute">
        <origin xyz="0.0025 -0.039 0.01" rpy="1.5707963267948966 -1.5707963267948966 0" />
        <parent link="servo16" />
        <child link="csmall11" />
        <axis xyz="0.0 7.264215045608044e-33 1.0" />
        <limit lower="-0.349066" upper="2.792527" effort="1000000" velocity="1000000" />
    </joint>
    <joint name="Comp3_Rigid-119" type="fixed">
        <origin xyz="-0.05499999999999999 0.0 0.03" rpy="0.0 3.944304526105059e-31 -1.5707963267948966" />
        <parent link="Comp3" />
        <child link="servo16" />
    </joint>
    <joint name="Comp3_Rigid-121" type="fixed">
        <origin xyz="0.0 0.0 0.03" rpy="3.944304526105059e-31 -0.0 -2.9824285462269747e-32" />
        <parent link="Comp3" />
        <child link="Comp4" />
    </joint>
    <joint name="servo17_val" type="revolute">
        <origin xyz="0.0 0.0 0.06" rpy="-3.944304526105059e-31 1.0041162257689498e-62 2.545737072589827e-32" />
        <parent link="Comp4" />
        <child link="servo17" />
        <axis xyz="0.0 0.0 1.0" />
        <limit lower="-1.570796" upper="1.570796" effort="1000000" velocity="1000000" />
    </joint>
    <joint name="servo13_Rigid-123" type="fixed">
        <origin xyz="-0.0025 0.03 0.026000000000000002" rpy="-1.5707963267948966 3.5141268180324735e-33 0.0" />
        <parent link="servo13" />
        <child link="csmall15" />
    </joint>
    <joint name="servo13_val" type="revolute">
        <origin xyz="0.0 0.02475 0.03300000000000001" rpy="1.5707963267948966 -1.5707963267948966 0" />
        <parent link="csmall14" />
        <child link="servo13" />
        <axis xyz="7.303564904261513e-34 -1.232595164407831e-32 1.0" />
        <limit lower="-2.96706" upper="0.174533" effort="1000000" velocity="1000000" />
    </joint>
</robot>
